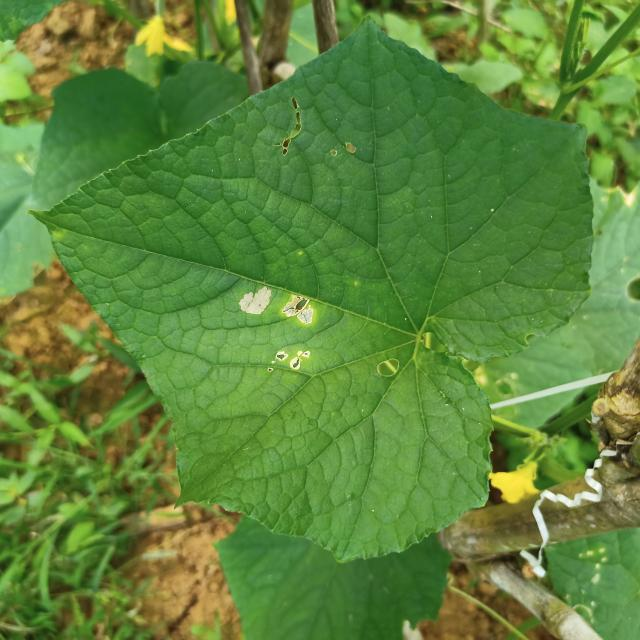disease_cucumber: (235, 284, 319, 375)
